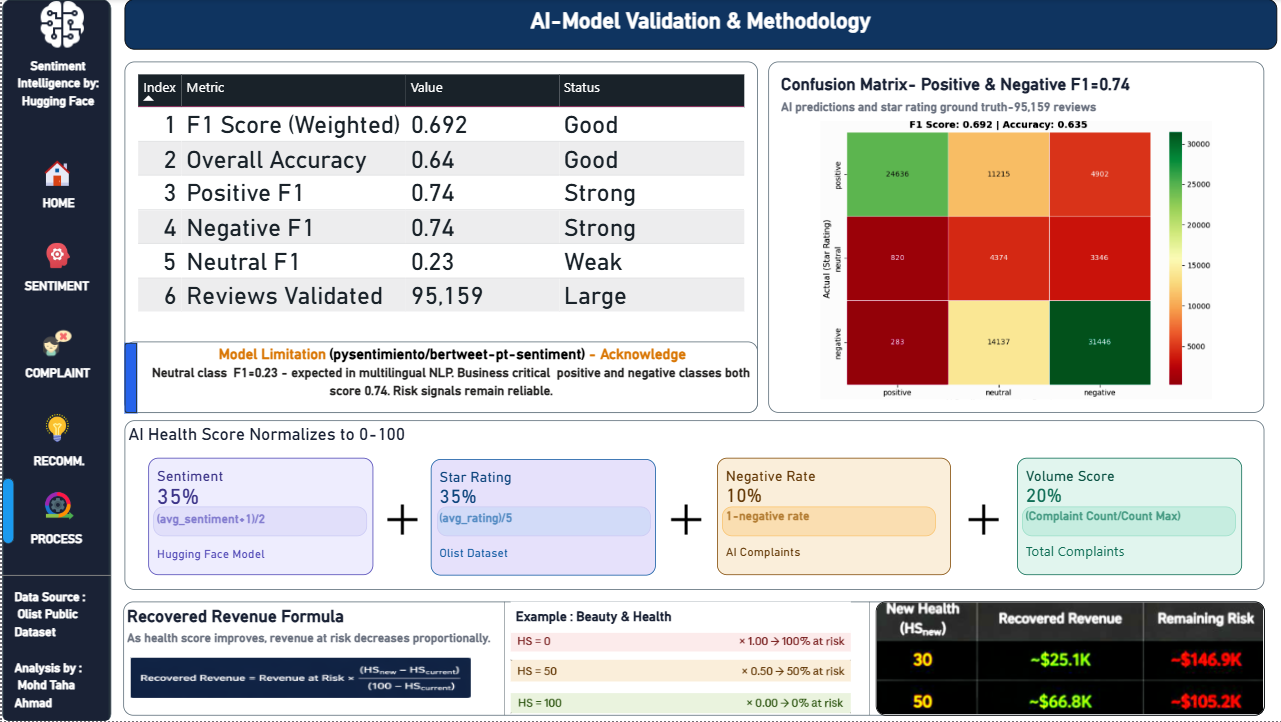

The dashboard page shown, as its layout file describes it:
{"tool":"powerbi","page":{"name":"Methodology","canvas":[1280,720],"ordinal":4},"visuals":[{"type":"shape","box":[0,0,108.4,720.4],"z":0},{"type":"textbox","box":[6.9,580,104.3,140],"z":1000},{"type":"image","box":[39.8,157.8,30.2,30.2],"z":2000},{"type":"textbox","box":[31.6,188,50.8,34.3],"z":3000},{"type":"image","box":[11,0,97.4,50.8],"z":4000},{"type":"textbox","box":[4.1,50.8,104.3,68.6],"z":5000},{"type":"image","box":[39.8,240.1,30.2,30.2],"z":6000},{"type":"textbox","box":[2.7,270.3,104.3,34.3],"z":7000},{"type":"textbox","box":[13.7,356.8,83.7,31.6],"z":8000},{"type":"shape","box":[0,558.5,108.4,30.2],"z":9000},{"type":"image","box":[39.8,326.6,30.2,30.2],"z":10000},{"type":"shape","box":[0,476.2,12.3,65.9],"z":11000},{"type":"image","box":[39.8,411.7,30.2,30.2],"z":12000},{"type":"textbox","box":[15.1,444.6,83.7,31.6],"z":13000},{"type":"textbox","box":[122.1,0,1147.2,50.8],"z":14000},{"type":"textbox","box":[0,522.8,108.4,31.6],"z":15000},{"type":"image","box":[41.2,488.5,30.2,30.2],"z":16000},{"type":"tableEx","fields":{"Values":["Sum(model_validation_table.Index)","model_validation_table.Metric","model_validation_table.Value","model_validation_table.Status"]},"box":[121.9,62.2,630.7,349.6],"z":17000},{"type":"image","title":"Confusion Matrix- Positive & Negative F1=0.74","box":[762.5,62.2,493.9,349.6],"z":18000},{"type":"textbox","box":[121.9,340.8,630.7,70.9],"z":19000},{"type":"shape","box":[121.9,342.1,12.4,70],"z":20000},{"type":"shape","title":"AI Health Score Normalizes to 0-100","box":[121.9,419.2,1134.5,169.2],"z":21000},{"type":"textbox","box":[145.5,456.5,223.9,116.9],"z":22000},{"type":"textbox","box":[426.7,457.8,223.9,115.7],"z":23000},{"type":"textbox","box":[711.5,456.5,232.6,116.9],"z":24000},{"type":"textbox","box":[1010.1,456.5,223.9,116.9],"z":25000},{"type":"shape","box":[150.5,505,212.7,29.9],"z":26000},{"type":"shape","box":[432.9,505,212.7,29.9],"z":27000},{"type":"shape","box":[716,505,212.7,29.9],"z":28000},{"type":"shape","box":[1015.1,505,212.7,29.9],"z":29000},{"type":"image","box":[376,500.1,46,36.1],"z":30000},{"type":"image","box":[954.1,500.1,46,36.1],"z":31000},{"type":"image","box":[658,500.1,46,36.1],"z":32000},{"type":"shape","title":"Recovered Revenue Formula ","box":[120.7,599.6,1135.7,113.2],"z":33000},{"type":"image","box":[128.1,655.6,338.4,39.8],"z":34000},{"type":"shape","box":[493.9,599.6,12.4,113.2],"z":35000},{"type":"image","box":[506.3,627,338.4,23.6],"z":36000},{"type":"image","box":[869.5,599.6,386.9,113.2],"z":37000},{"type":"image","box":[506.3,656.8,338.4,23.6],"z":38000},{"type":"shape","box":[857.1,599.6,12.4,113.2],"z":39000},{"type":"image","box":[506.3,689.2,338.4,23.6],"z":40000},{"type":"textbox","box":[506.3,599.6,338.4,31.1],"z":41000}]}

Visuals, with their boxes on the page's 1280x720 design canvas (x1, y1, x2, y2). These are canvas units, not pixel positions in the 1281x722 screenshot, which may show the page scaled, cropped or inside an application window:
shape: bbox(0, 0, 108, 720)
textbox: bbox(7, 580, 111, 720)
image: bbox(40, 158, 70, 188)
textbox: bbox(32, 188, 82, 222)
image: bbox(11, 0, 108, 51)
textbox: bbox(4, 51, 108, 119)
image: bbox(40, 240, 70, 270)
textbox: bbox(3, 270, 107, 305)
textbox: bbox(14, 357, 97, 388)
shape: bbox(0, 558, 108, 589)
image: bbox(40, 327, 70, 357)
shape: bbox(0, 476, 12, 542)
image: bbox(40, 412, 70, 442)
textbox: bbox(15, 445, 99, 476)
textbox: bbox(122, 0, 1269, 51)
textbox: bbox(0, 523, 108, 554)
image: bbox(41, 488, 71, 519)
tableEx - Sum(model_validation_table.Index) x model_validation_table.Metric: bbox(122, 62, 753, 412)
"Confusion Matrix- Positive & Negative F1=0.74" image: bbox(762, 62, 1256, 412)
textbox: bbox(122, 341, 753, 412)
shape: bbox(122, 342, 134, 412)
"AI Health Score Normalizes to 0-100" shape: bbox(122, 419, 1256, 588)
textbox: bbox(146, 456, 369, 573)
textbox: bbox(427, 458, 651, 574)
textbox: bbox(712, 456, 944, 573)
textbox: bbox(1010, 456, 1234, 573)
shape: bbox(150, 505, 363, 535)
shape: bbox(433, 505, 646, 535)
shape: bbox(716, 505, 929, 535)
shape: bbox(1015, 505, 1228, 535)
image: bbox(376, 500, 422, 536)
image: bbox(954, 500, 1000, 536)
image: bbox(658, 500, 704, 536)
"Recovered Revenue Formula " shape: bbox(121, 600, 1256, 713)
image: bbox(128, 656, 466, 695)
shape: bbox(494, 600, 506, 713)
image: bbox(506, 627, 845, 651)
image: bbox(870, 600, 1256, 713)
image: bbox(506, 657, 845, 680)
shape: bbox(857, 600, 870, 713)
image: bbox(506, 689, 845, 713)
textbox: bbox(506, 600, 845, 631)
